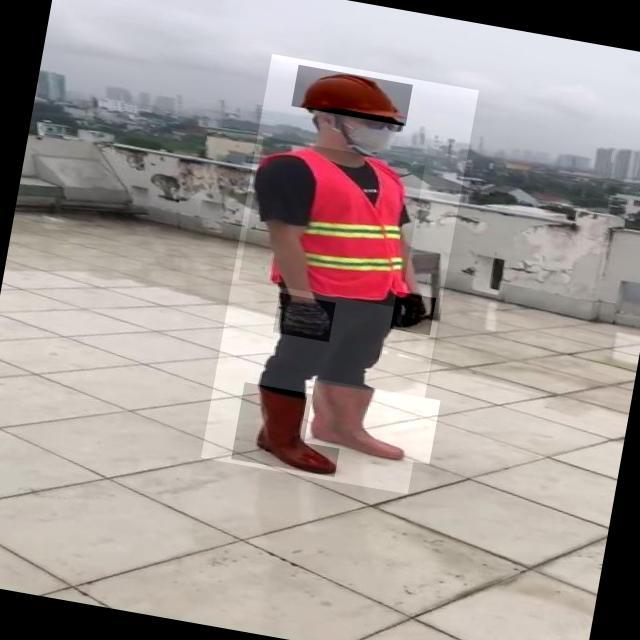Gloves: (273, 293, 336, 342), (390, 291, 436, 335)
Helmet: (291, 64, 413, 126)
Human: (201, 54, 479, 494)
Safety Boot: (304, 378, 441, 464), (231, 382, 348, 477)
Safety Vest: (238, 137, 425, 308)
